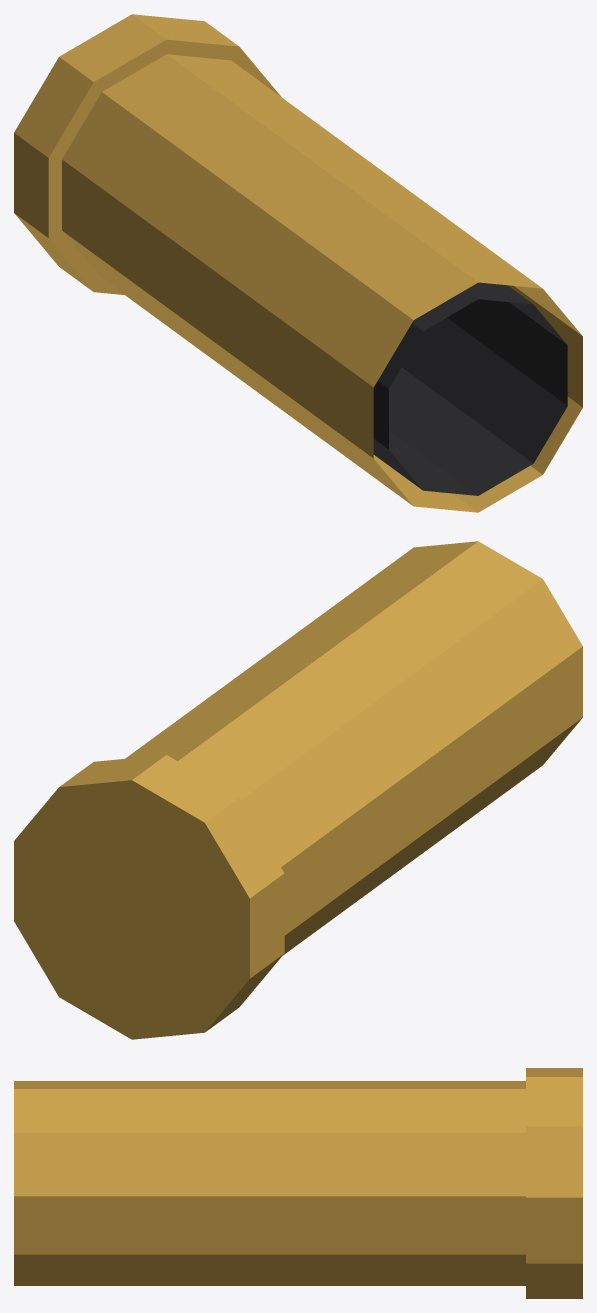
File: SM_Casing.fbx
3 views of the same model, one above another, from view 1: azimuth 30°, elevation 25°; view 2: azimuth 150°, elevation 25°; view 3: azimuth 270°, elevation 25° (orthographic). The views are drawn at different scales.
Parts seen in each view (by area): view 1: Casing; view 2: Casing; view 3: Casing.
Boxes of the visible parts, x1,y1,x2,y2 form: Casing: [14, 14, 582, 512]; Casing: [14, 541, 582, 1039]; Casing: [14, 1068, 582, 1298].
Size of the model in its own units: 11.79 by 30 by 12.4.
